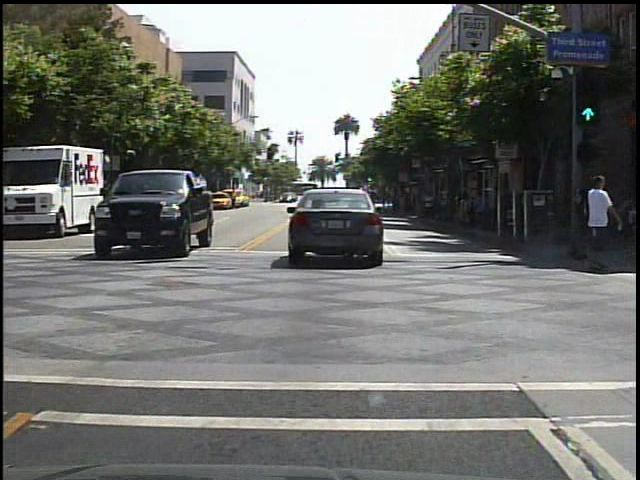person: (580, 164, 620, 271), (580, 172, 612, 266), (419, 189, 438, 223)
